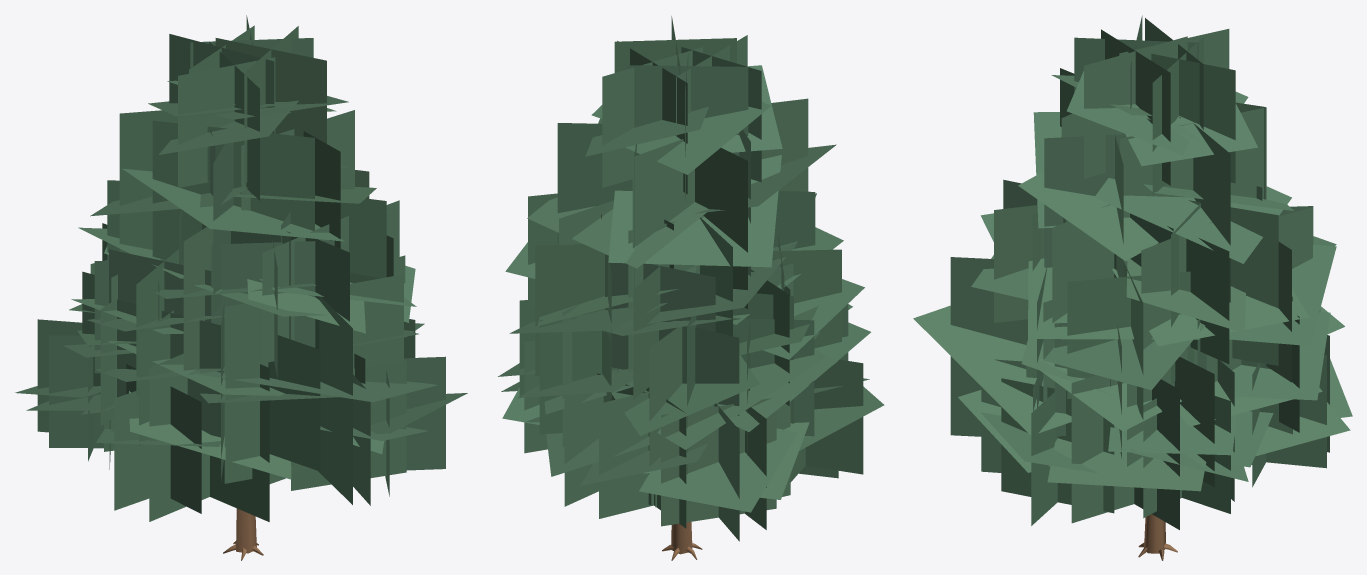
File: pin_2_f3_loin.glb
3 renders of one model, left to right at view 1: azimuth 30°, elevation 25°; view 2: azimuth 150°, elevation 25°; view 3: azimuth 270°, elevation 25°, orthographic.
Parts seen in each view (by area): view 1: Pin_T2_f3_Leger_Loin; view 2: Pin_T2_f3_Leger_Loin; view 3: Pin_T2_f3_Leger_Loin.
Boxes of the visible parts, bbox=[...] form: Pin_T2_f3_Leger_Loin: bbox=[15, 15, 467, 560]; Pin_T2_f3_Leger_Loin: bbox=[498, 16, 884, 560]; Pin_T2_f3_Leger_Loin: bbox=[913, 15, 1352, 560].
Size of the model in its own units: 8.41 by 11.78 by 9.21.
